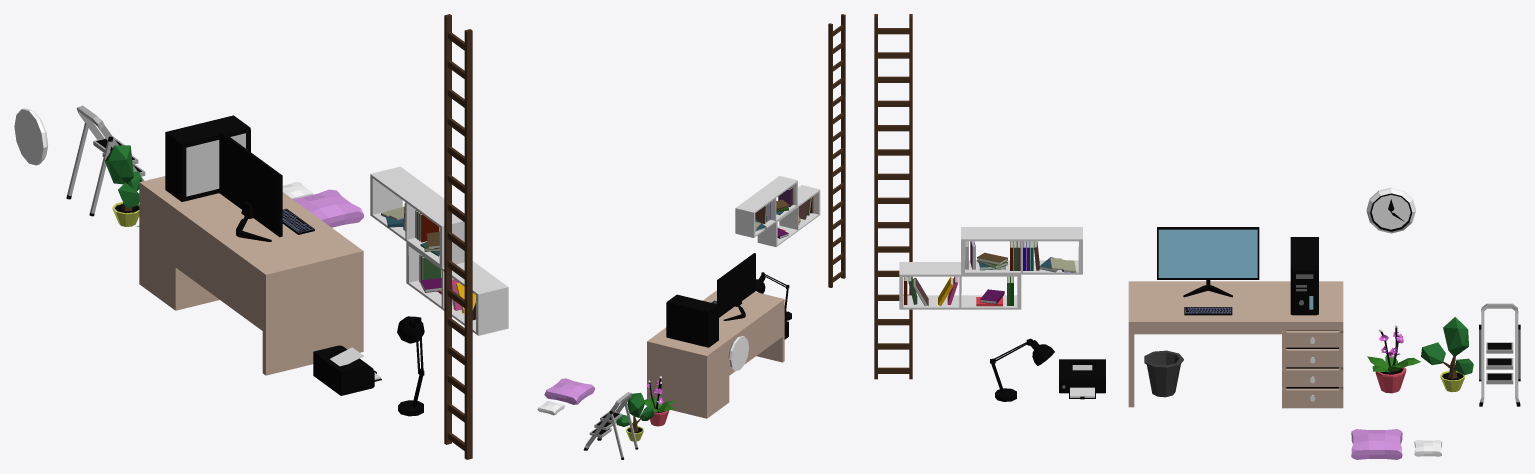
The model's file is Workroom.fbx.
The picture shows the model from 3 angles, left to right: view 1: azimuth 30°, elevation 25°; view 2: azimuth 150°, elevation 25°; view 3: azimuth 270°, elevation 25°; orthographic projection. The views are drawn at different scales.
Parts seen in each view (by area): view 1: Desk, Ladder2, Bookshelf, Computer, Monitor, Printer, Flower2, Ladder1, pillow, Clock, Lamp; view 2: Desk, Ladder2, Bookshelf, Computer, Monitor, Ladder1, pillow, Flower2, Flower1, Clock, Lamp; view 3: Desk, Ladder2, Monitor, Bookshelf, Computer, Ladder1, Flower2, Printer, Clock, pillow, Flower1, TrashCan (+1 smaller).
Boxes of the visible parts, <box> form: Desk: <box>139,176,363,375</box>; Ladder2: <box>444,14,472,459</box>; Bookshelf: <box>370,166,508,335</box>; Computer: <box>165,115,250,201</box>; Monitor: <box>219,131,282,241</box>; Printer: <box>313,345,381,395</box>; Flower2: <box>104,145,142,226</box>; Ladder1: <box>66,105,145,216</box>; pillow: <box>293,189,364,227</box>; Clock: <box>14,108,48,165</box>; Lamp: <box>397,316,424,416</box>; Desk: <box>647,290,784,418</box>; Ladder2: <box>828,14,845,287</box>; Bookshelf: <box>735,176,820,246</box>; Computer: <box>666,294,718,347</box>; Monitor: <box>717,253,755,320</box>; Ladder1: <box>583,392,638,459</box>; pillow: <box>544,378,594,404</box>; Flower2: <box>616,392,654,441</box>; Flower1: <box>644,376,675,426</box>; Clock: <box>728,336,748,370</box>; Lamp: <box>756,272,791,320</box>; Desk: <box>1128,281,1343,408</box>; Ladder2: <box>874,14,912,379</box>; Monitor: <box>1157,227,1259,297</box>; Bookshelf: <box>899,227,1082,309</box>; Computer: <box>1290,237,1318,315</box>; Ladder1: <box>1479,303,1520,406</box>; Flower2: <box>1421,317,1473,391</box>; Printer: <box>1059,359,1105,399</box>; Clock: <box>1366,187,1415,233</box>; pillow: <box>1351,429,1402,459</box>; Flower1: <box>1367,325,1420,393</box>; TrashCan: <box>1144,350,1183,397</box>.
Size of the model in its own units: 521 by 707 by 1103.
